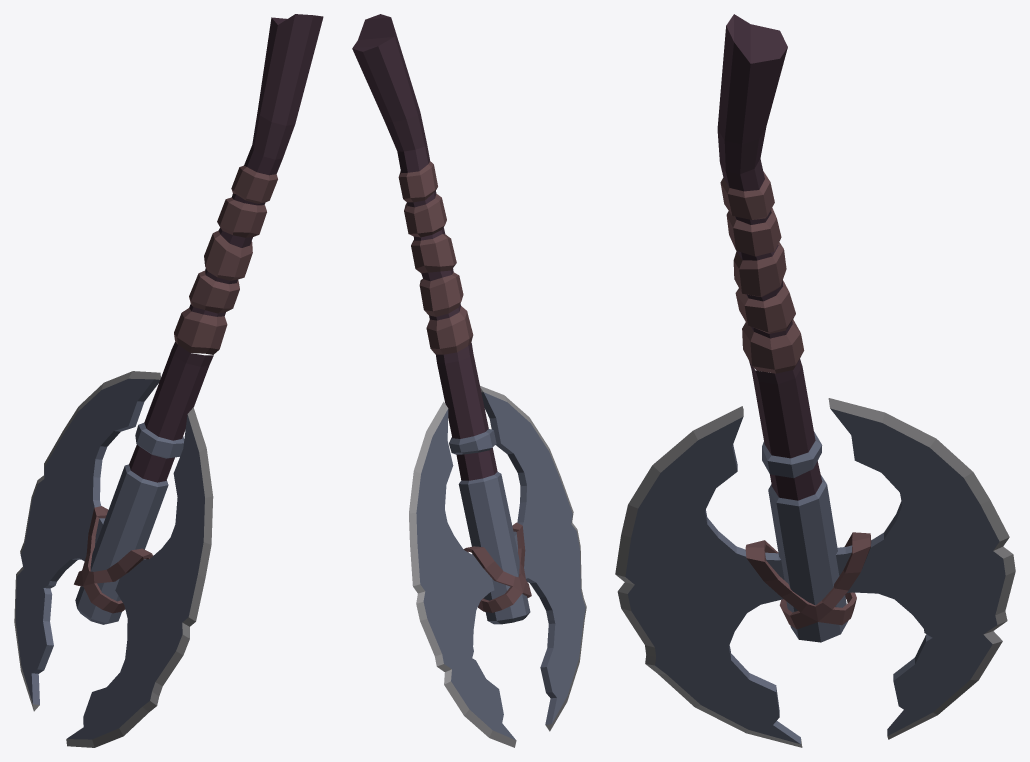
Rendered from Greataxe-BRWDYgAG.glb.
3 views of the same model, side by side, from view 1: azimuth 30°, elevation 25°; view 2: azimuth 150°, elevation 25°; view 3: azimuth 270°, elevation 25° (orthographic). The views are drawn at different scales.
Visible parts, largest first — view 1: Greataxe.001; view 2: Greataxe.001; view 3: Greataxe.001.
Part boxes in pixels (<box>): Greataxe.001: <box>14,14,323,747</box>; Greataxe.001: <box>352,14,586,747</box>; Greataxe.001: <box>615,14,1015,747</box>.
Bounding box in the file's own units: 0.3317 × 0.967 × 0.412.
